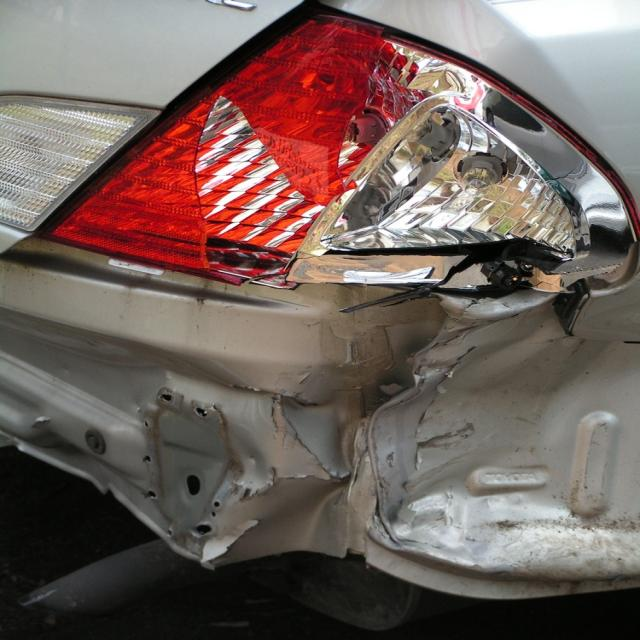dent: (373, 275, 640, 577)
lamp broken: (43, 13, 634, 288)
